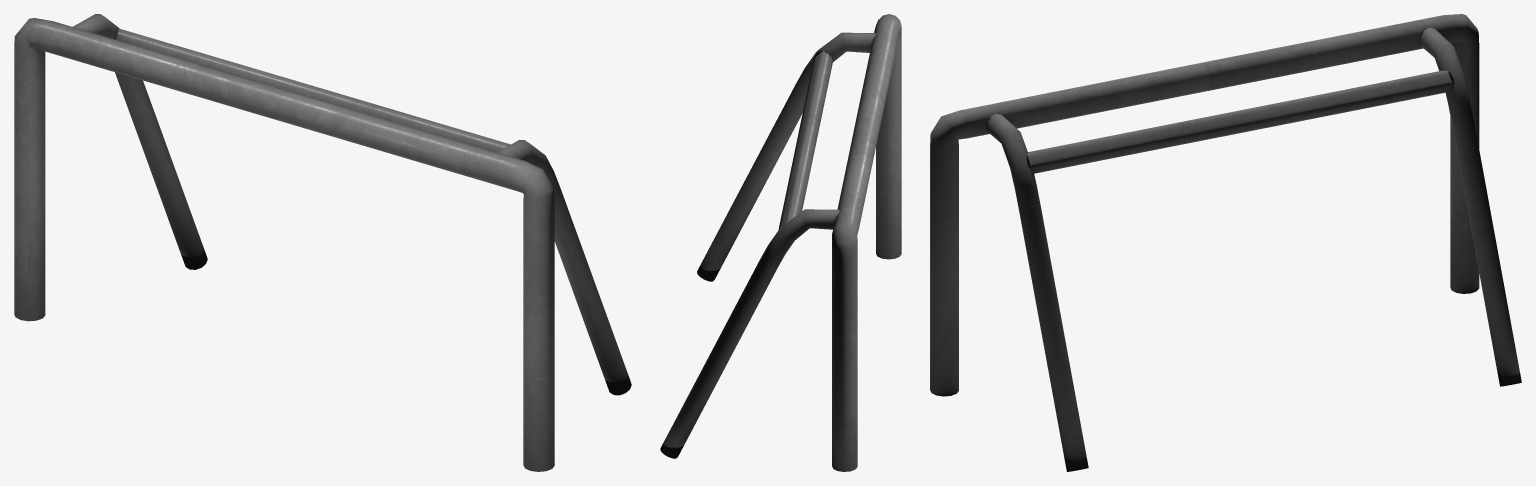
The model's file is but.glb.
The picture shows the model from 3 angles, left to right: view 1: azimuth 30°, elevation 25°; view 2: azimuth 150°, elevation 25°; view 3: azimuth 270°, elevation 25°; orthographic projection. The views are drawn at different scales.
Parts seen in each view (by area): view 1: khung thanh_Baked; view 2: khung thanh_Baked; view 3: khung thanh_Baked.
Part boxes in pixels (<box>): khung thanh_Baked: <box>14,14,631,471</box>; khung thanh_Baked: <box>660,14,901,471</box>; khung thanh_Baked: <box>930,14,1521,471</box>.
Bounding box in the file's own units: 2.73 × 2.03 × 3.76.
1 material, 1 textured.
